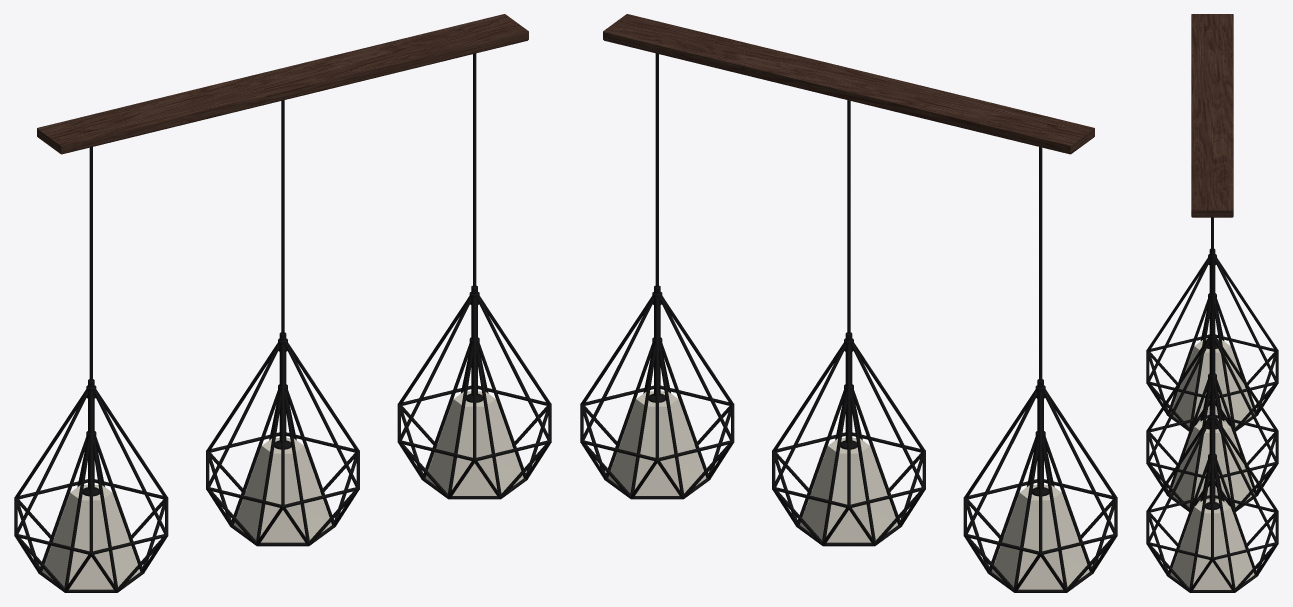
Rendered from industrial_diamond_pendant_light.glb.
3 views of the same model, side by side, from view 1: azimuth 30°, elevation 25°; view 2: azimuth 150°, elevation 25°; view 3: azimuth 270°, elevation 25° (orthographic). The views are drawn at different scales.
Parts seen in each view (by area): view 1: black_metal (×3), white (×3), wood; view 2: black_metal (×3), white (×3), wood; view 3: black_metal (×3), white (×3), wood.
Boxes of the visible parts, x1,y1,x2,y2 form: black_metal (×3): (14,53,551,592); white (×3): (42,391,523,589); wood: (37,14,528,154); black_metal (×3): (580,53,1117,592); white (×3): (608,391,1089,589); wood: (603,14,1094,154); black_metal (×3): (1146,217,1278,592); white (×3): (1170,339,1254,589); wood: (1191,14,1233,217).
Bounding box in the file's own units: 1.26 × 1 × 0.3135.
4 materials, 2 textured.
